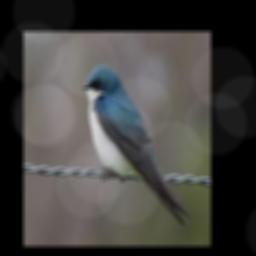Swallow: (80, 65, 191, 224)
